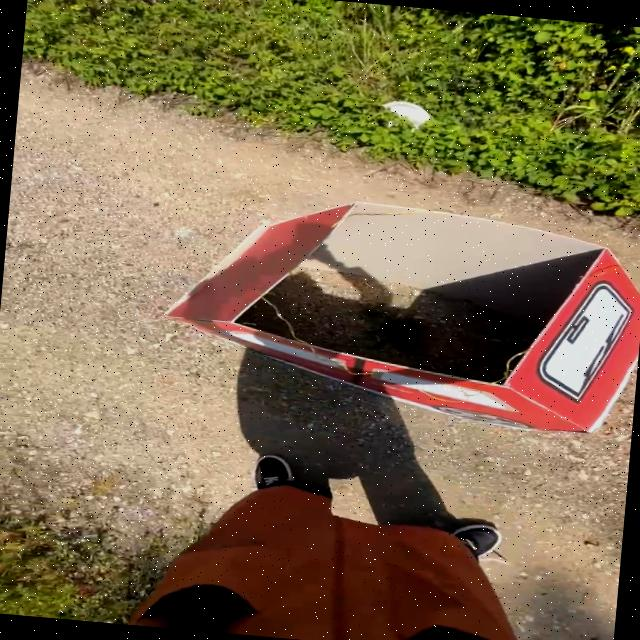red_car: (130, 162, 640, 452)
